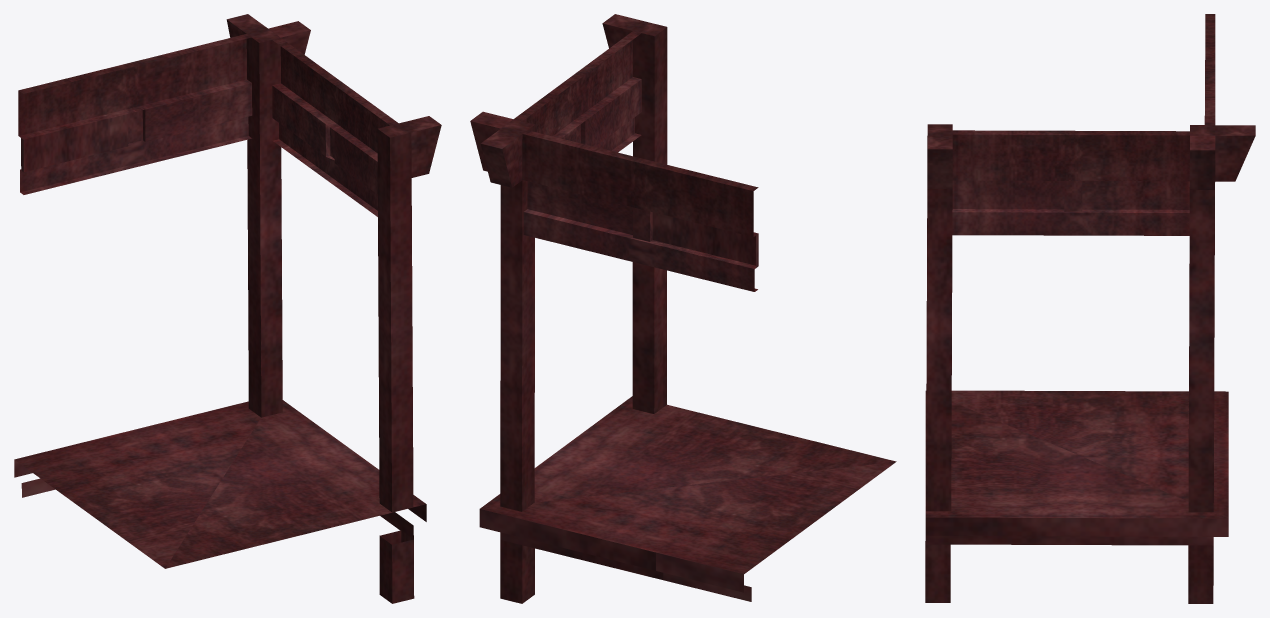
File: NNJ0510080.fbx
3 views of the same model, side by side, from view 1: azimuth 30°, elevation 25°; view 2: azimuth 150°, elevation 25°; view 3: azimuth 270°, elevation 25° (orthographic).
Visible parts, largest first — view 1: smNNJ0510080; view 2: smNNJ0510080; view 3: smNNJ0510080.
Boxes of the visible parts, x1,y1,x2,y2 form: smNNJ0510080: (14,14,441,603); smNNJ0510080: (470,14,896,603); smNNJ0510080: (925,14,1255,603).
Bounding box in the file's own units: 296 × 472 × 301.
Materials: 1 (1 with a texture image).
